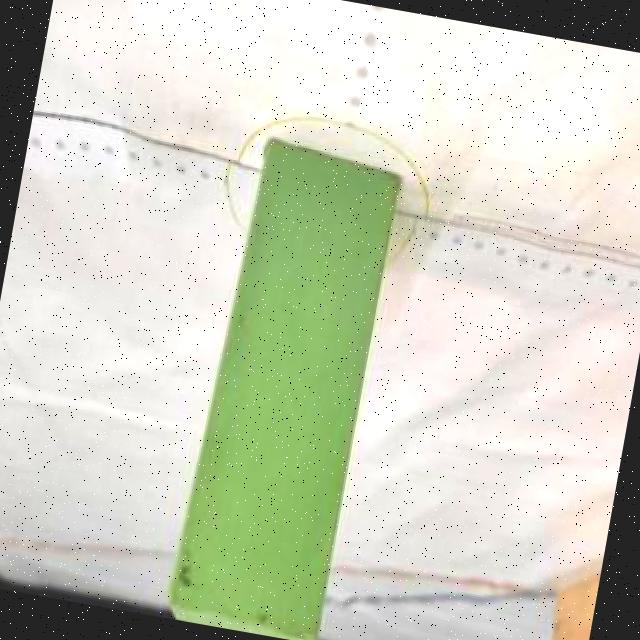greenbox: (161, 142, 402, 640)
